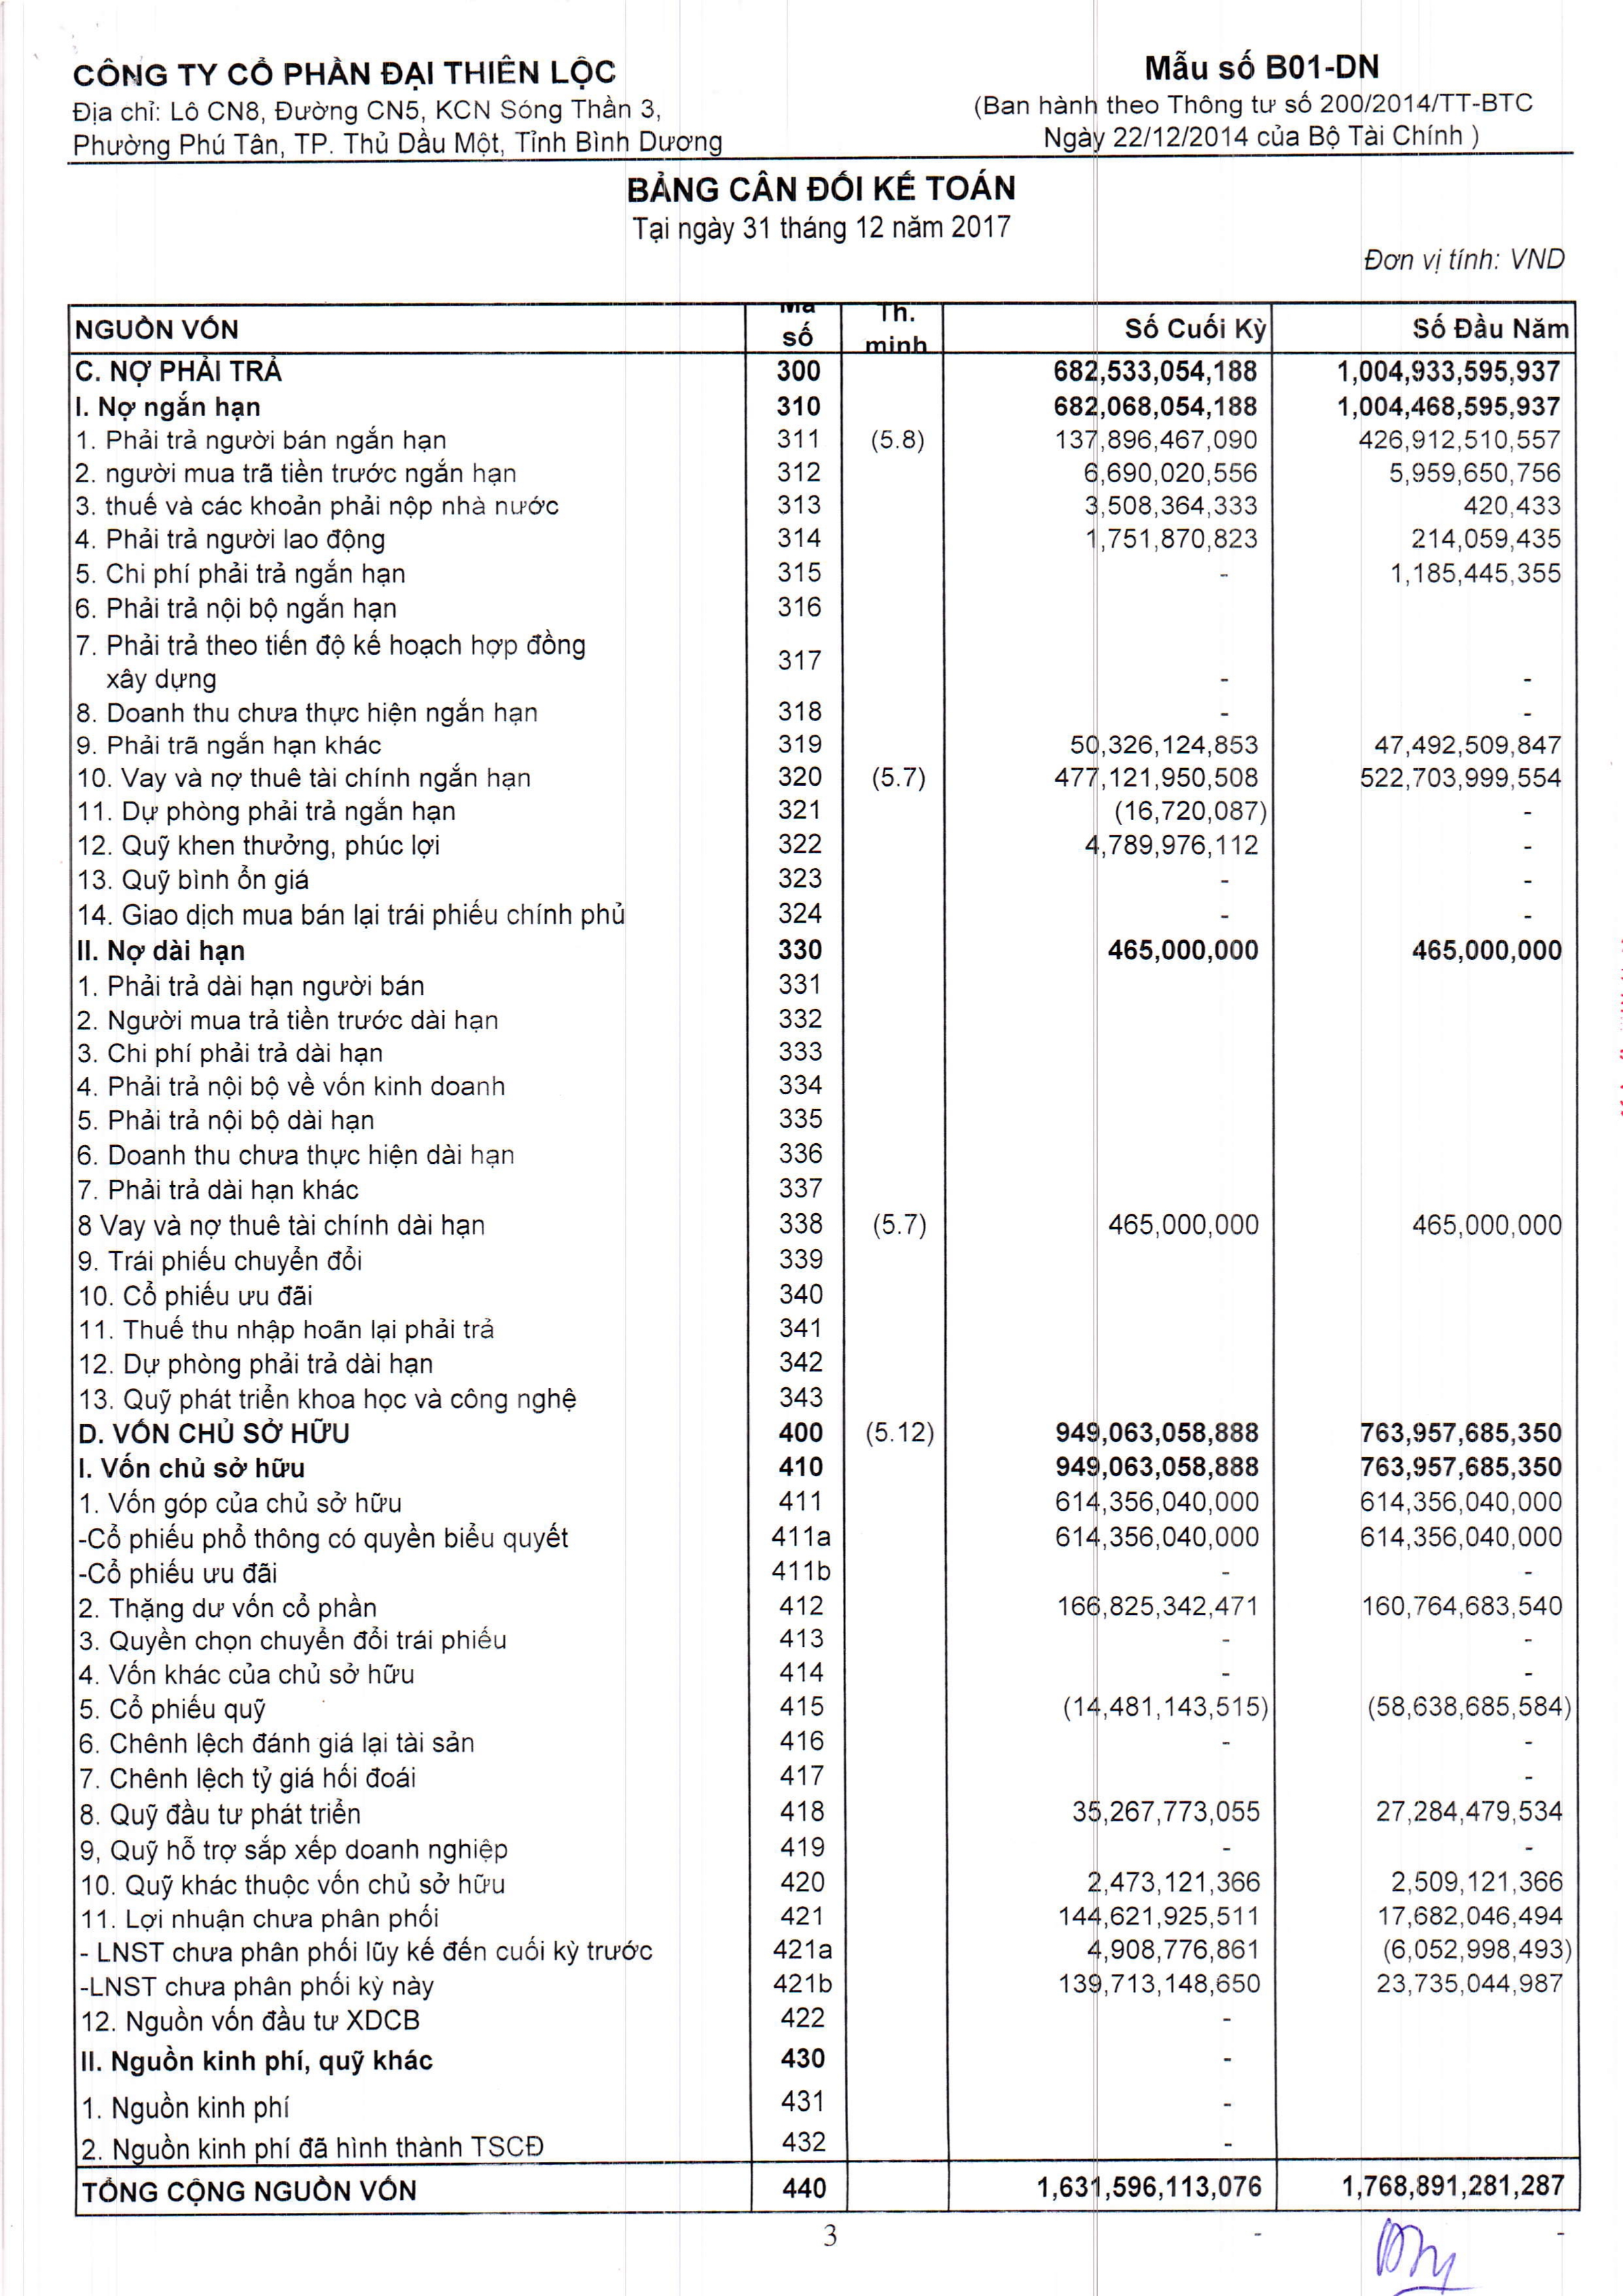table: (56, 290, 1591, 2222)
table column: (77, 290, 724, 2222), (1324, 290, 1593, 2222), (1022, 290, 1286, 2222), (875, 290, 957, 2222), (771, 290, 852, 2222)
table column header: (56, 305, 1595, 362)
table row: (56, 307, 1591, 358), (56, 2040, 1591, 2077), (56, 2163, 1591, 2199), (56, 360, 1591, 395), (56, 602, 1591, 637), (56, 1058, 1591, 1094), (56, 1094, 1591, 1129), (56, 1373, 1591, 1408), (56, 1476, 1591, 1511), (56, 1824, 1591, 1859), (56, 1929, 1591, 1964), (56, 2082, 1591, 2117), (56, 2122, 1591, 2157), (56, 397, 1591, 430), (56, 430, 1591, 463), (56, 499, 1591, 532), (56, 569, 1591, 602), (56, 641, 1591, 674), (56, 676, 1591, 709), (56, 711, 1591, 744), (56, 781, 1591, 814), (56, 851, 1591, 885), (56, 990, 1591, 1023), (56, 1025, 1591, 1058), (56, 1234, 1591, 1267), (56, 1546, 1591, 1580), (56, 1582, 1591, 1615), (56, 1617, 1591, 1650), (56, 1687, 1591, 1720), (56, 1755, 1591, 1789), (56, 1861, 1591, 1894), (56, 1999, 1591, 2033), (56, 465, 1591, 497), (56, 535, 1591, 567), (56, 748, 1591, 779), (56, 888, 1591, 920), (56, 923, 1591, 955), (56, 957, 1591, 988), (56, 1130, 1591, 1162), (56, 1164, 1591, 1195), (56, 1201, 1591, 1232), (56, 1271, 1591, 1302), (56, 1306, 1591, 1338), (56, 1339, 1591, 1371), (56, 1443, 1591, 1474), (56, 1513, 1591, 1545), (56, 1896, 1591, 1927), (56, 1966, 1591, 1998), (56, 818, 1591, 848), (56, 1654, 1591, 1683), (56, 1724, 1591, 1754), (56, 1792, 1591, 1822), (56, 1410, 1591, 1438)
